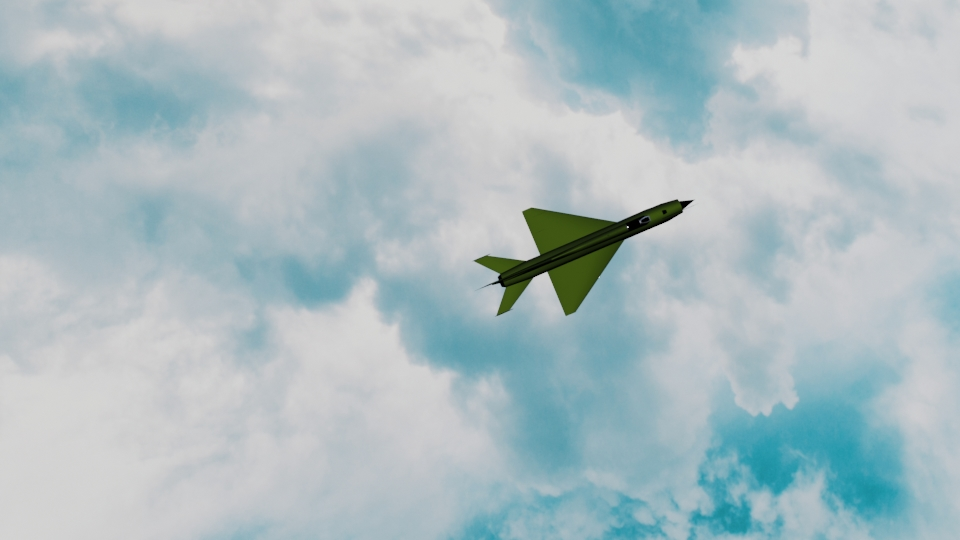plane: (472, 188, 692, 317)
